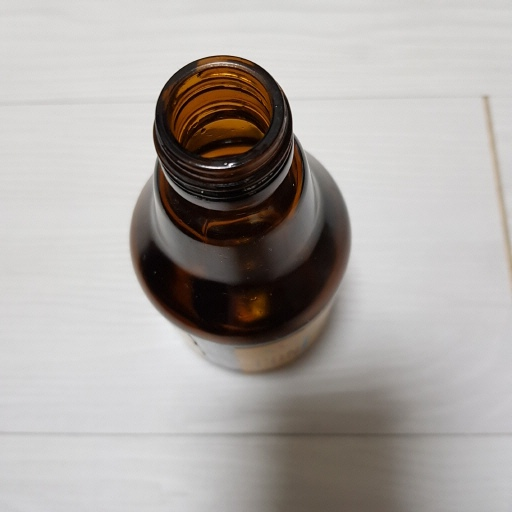Glass_3: (113, 57, 353, 382)
